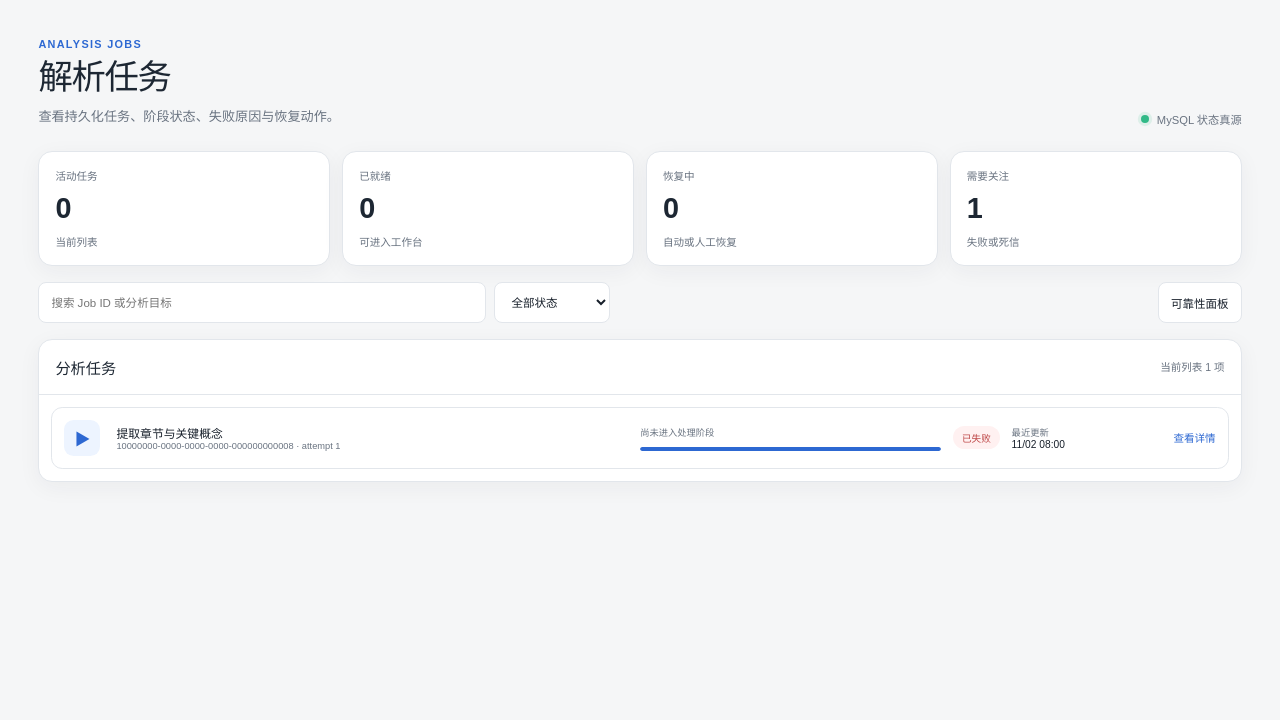
Test: AnalysisJobsPage › renders the stable failure summary without exposing internal details
Click the button with test id "open-job": (640, 438) [51,407,1229,469]
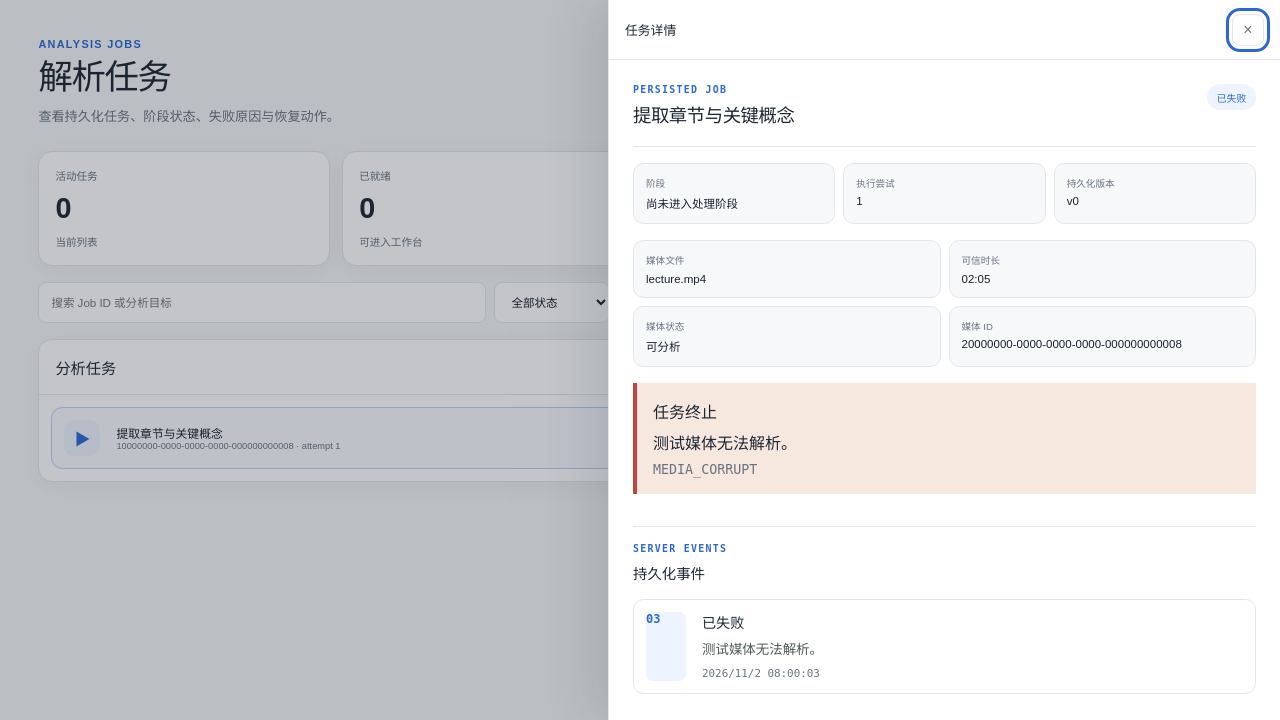
Result: the message "任务终止 测试媒体无法解析。 MEDIA_CORRUPT" is shown at [633,384,1256,494]
